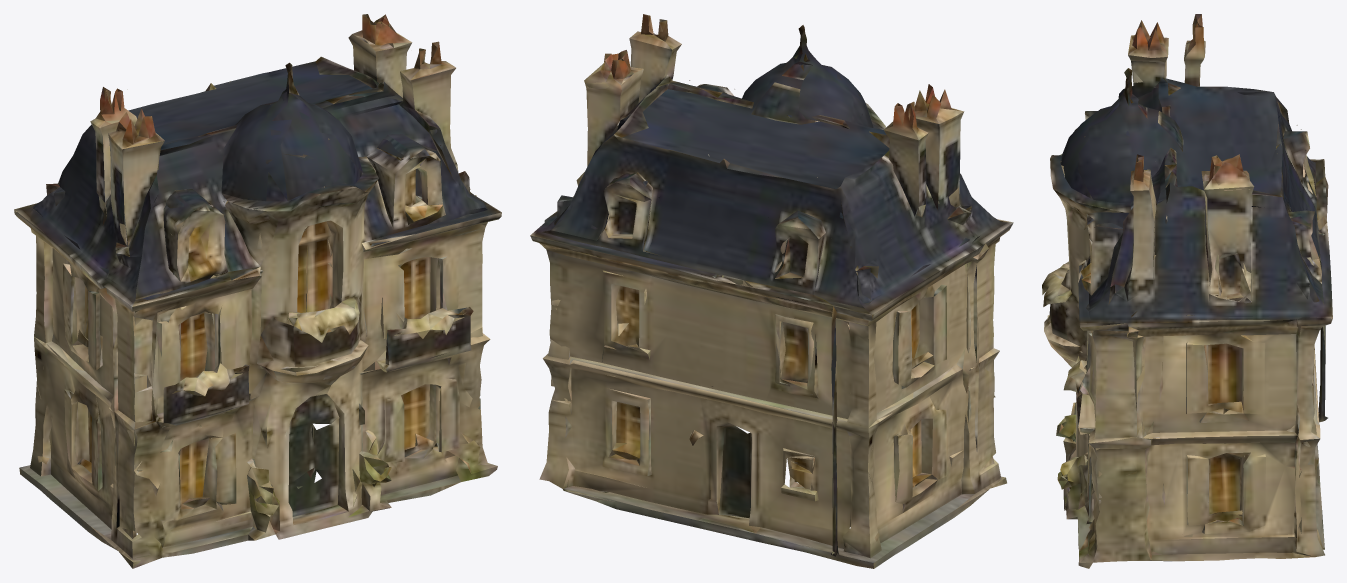
File: tower_2.glb
3 views of the same model, side by side, from view 1: azimuth 30°, elevation 25°; view 2: azimuth 150°, elevation 25°; view 3: azimuth 270°, elevation 25° (orthographic). The views are drawn at different scales.
Parts seen in each view (by area): view 1: classic__tower_2__neural_lod; view 2: classic__tower_2__neural_lod; view 3: classic__tower_2__neural_lod.
Part boxes in pixels (left/top/right/bottom): classic__tower_2__neural_lod: left=14, top=14, right=501, bottom=568; classic__tower_2__neural_lod: left=530, top=14, right=1013, bottom=568; classic__tower_2__neural_lod: left=1042, top=14, right=1332, bottom=568.
Bounding box in the file's own units: 0.8901 × 0.9855 × 0.614.
Materials: 1 (1 with a texture image).
